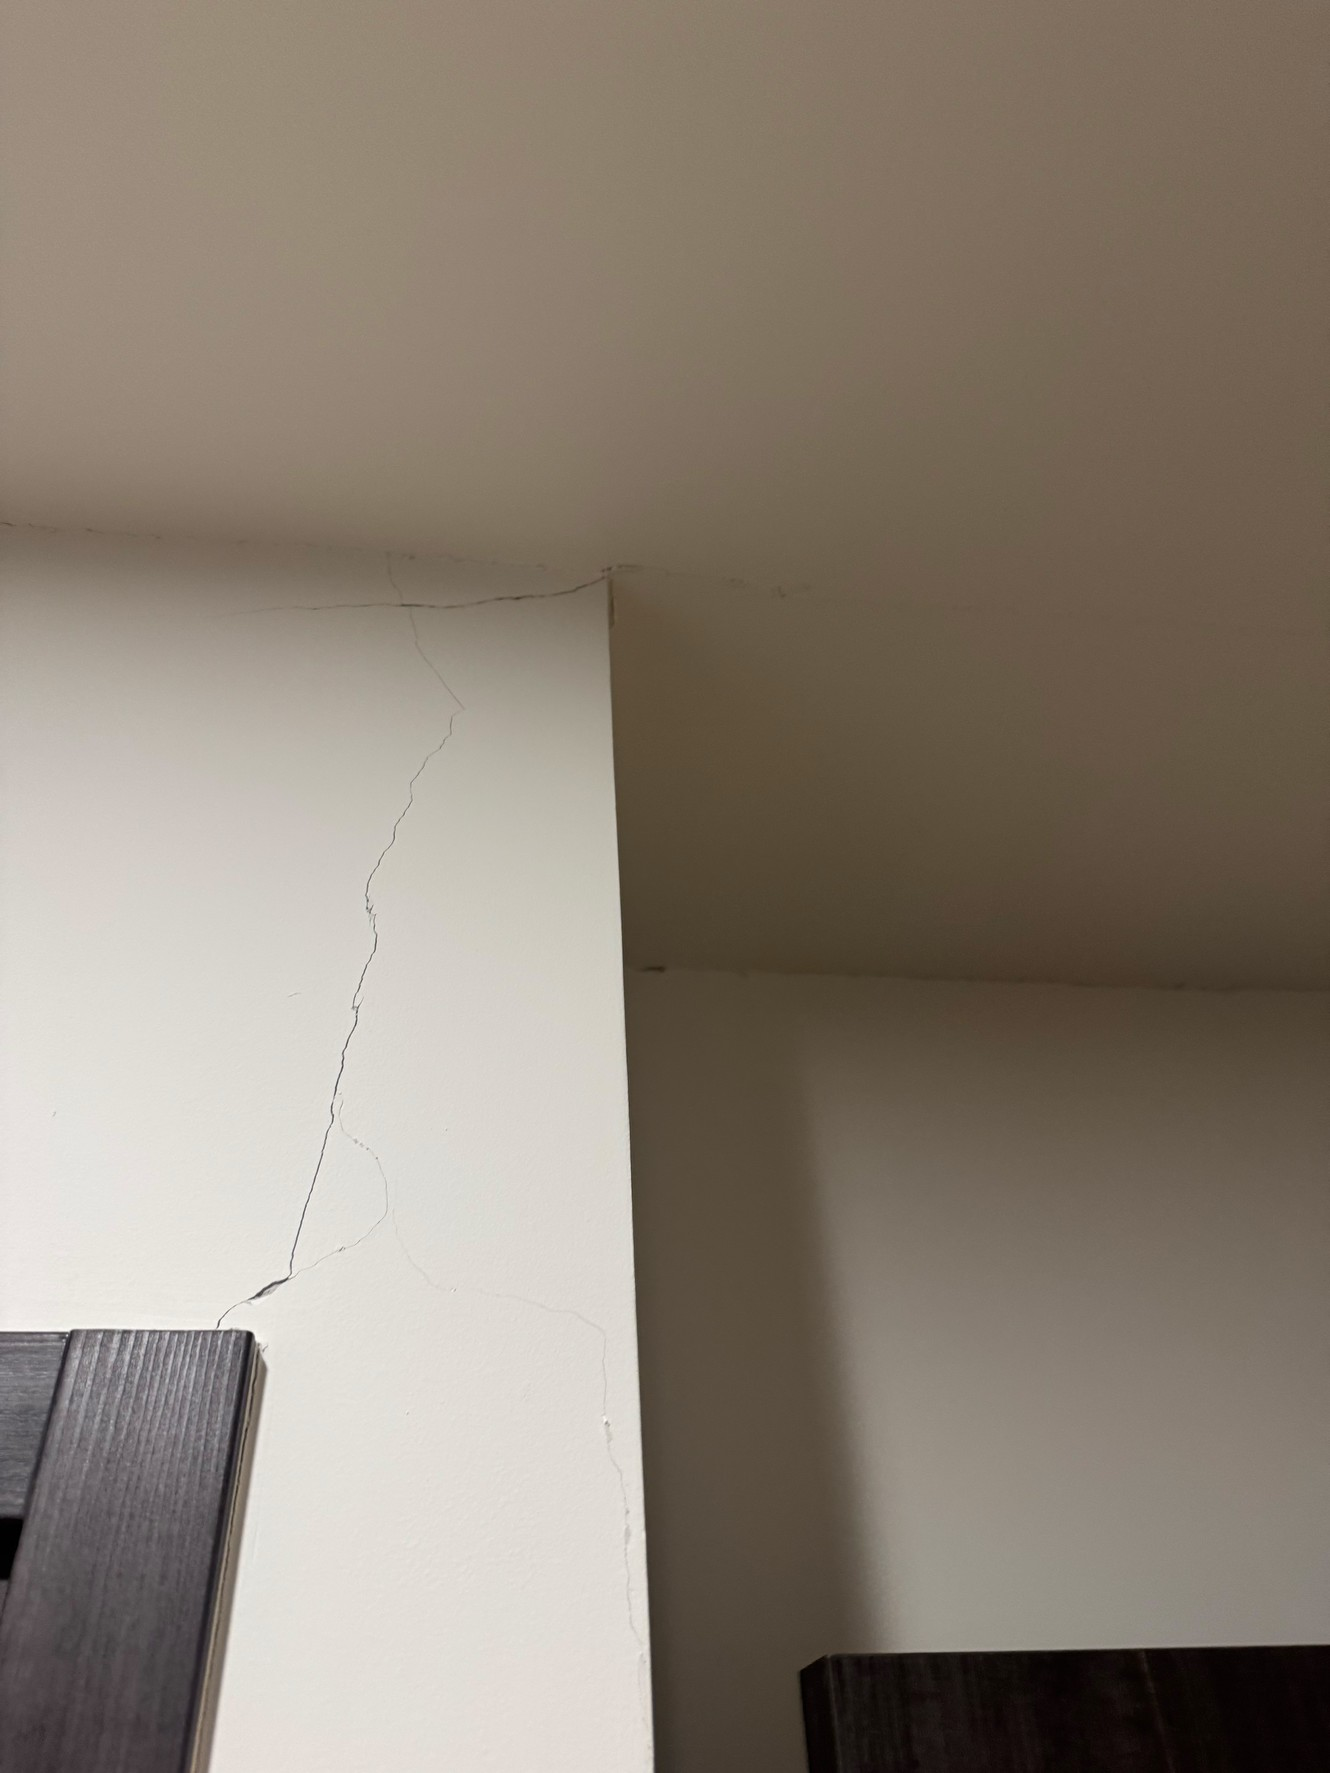Low: (218, 543, 601, 1322)
